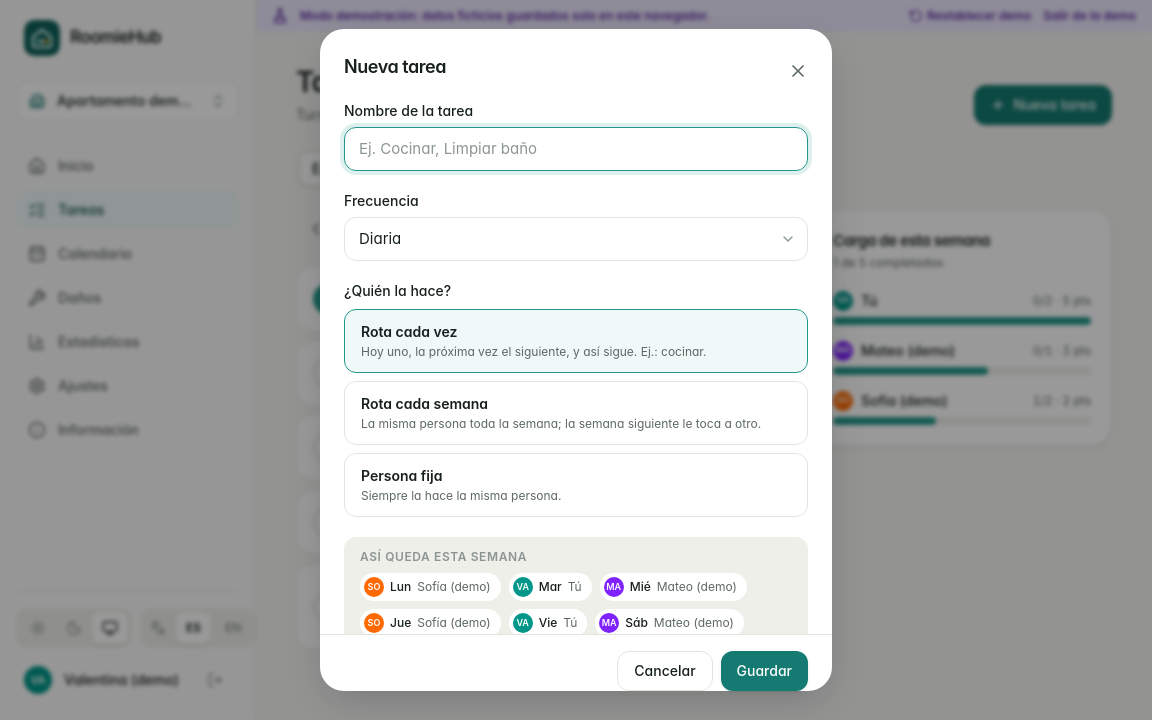
Test case: chore scheduling form › requires a person for a fixed assignment
The image size is (1152, 720).
Type "Regar plantas" into the field labelled "Nombre de la tarea" at (576, 149), box [344,127,808,171]
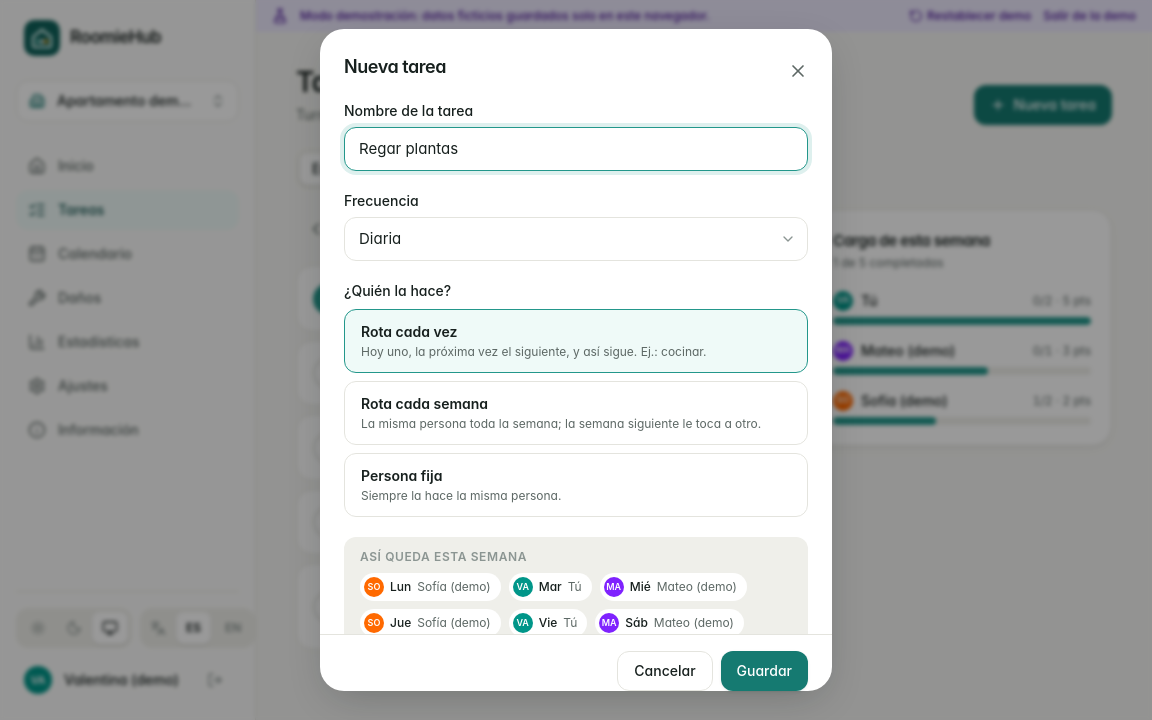
Click the radio button labelled "Persona fija Siempre la hace la misma persona." at (402, 475), box [344,453,808,517]
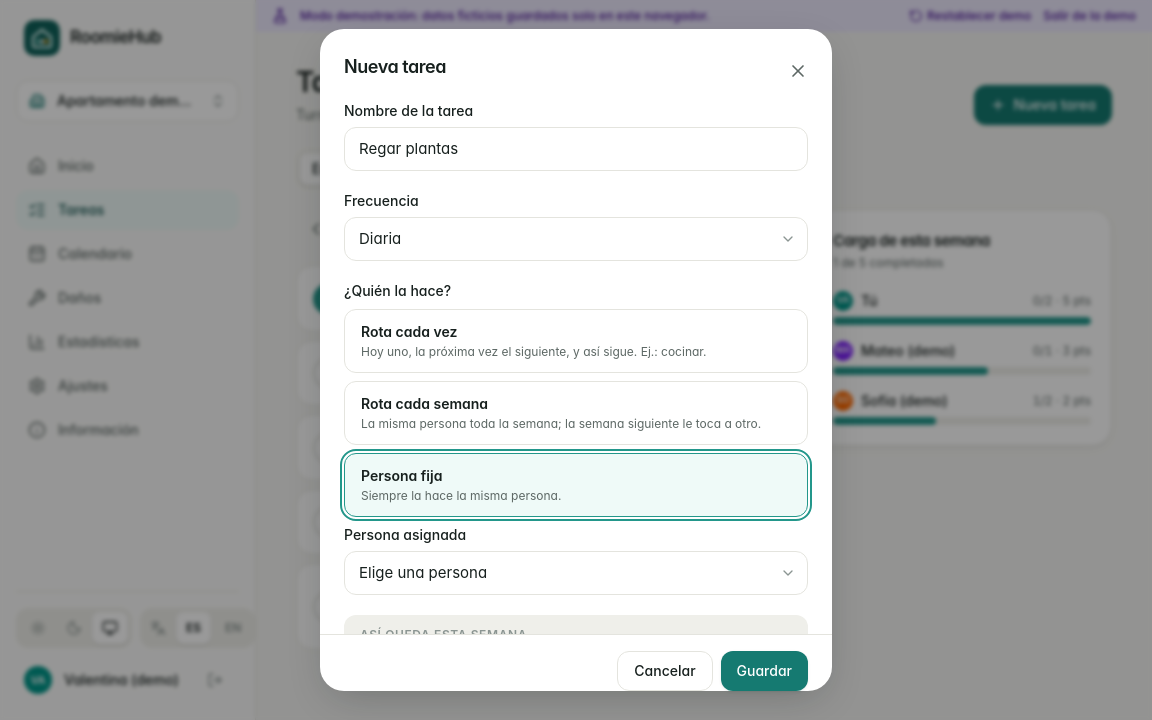
Click the button "Guardar" at (764, 671), box [721,651,808,691]
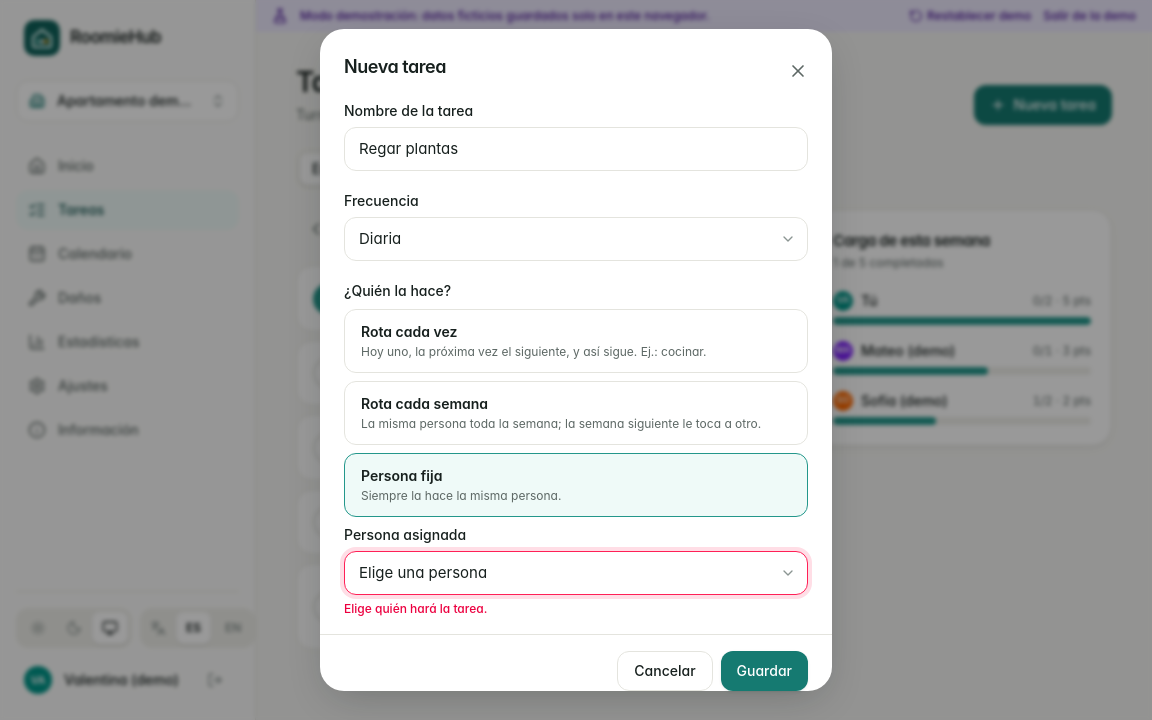
Check: the text "Elige quién hará la tarea." is shown, box [344,601,487,616]
